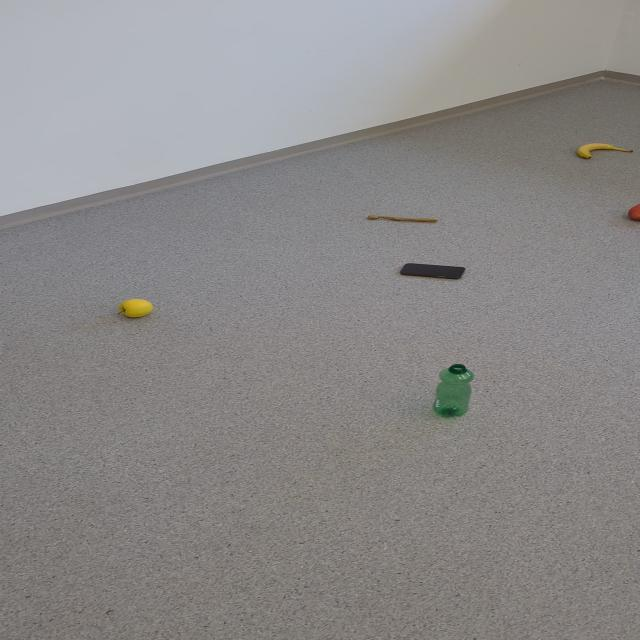apple: (116, 298, 154, 318)
banana: (575, 142, 633, 159)
bottle: (432, 363, 474, 418)
phone: (399, 262, 465, 280)
toothbrush: (367, 215, 438, 222)
